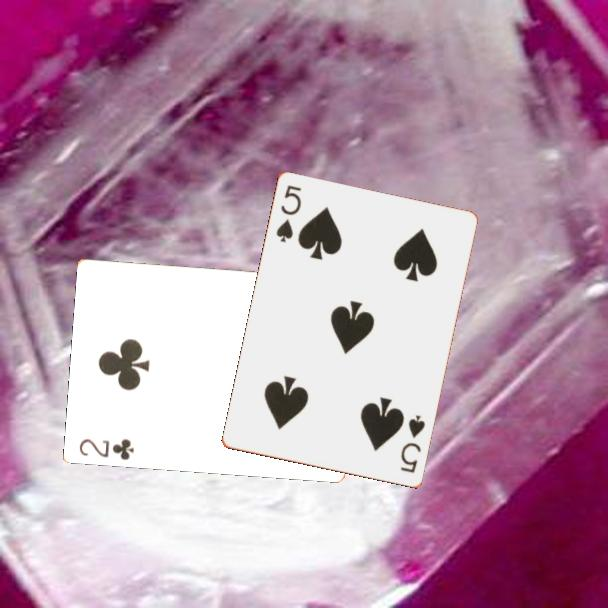c02: (76, 435, 137, 463)
s05: (397, 412, 428, 476), (273, 182, 304, 245)
